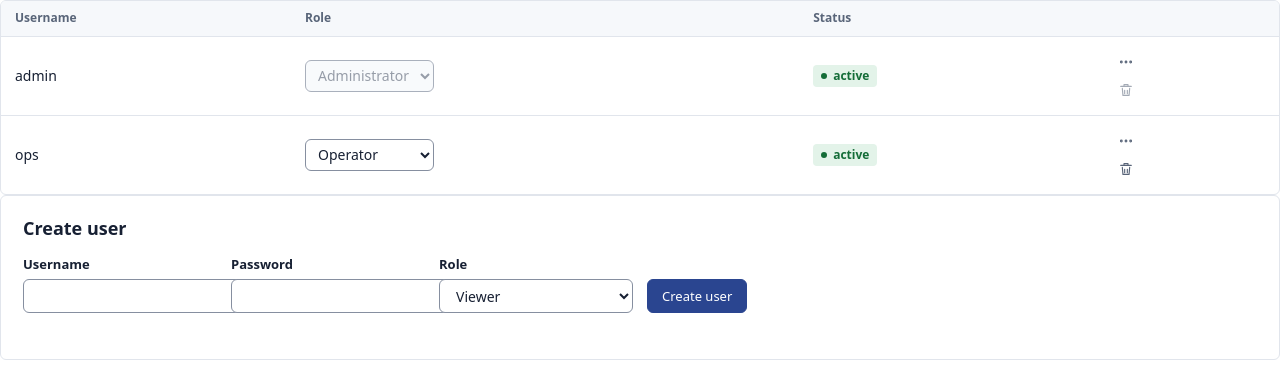
it: UsersTab › disables deactivate and role on own row
Expected: the dropdown named "Role for admin" is disabled, [305,60,434,92]
Click the button named "Actions for admin".
click(1126, 62)  # box [1112,48,1140,76]
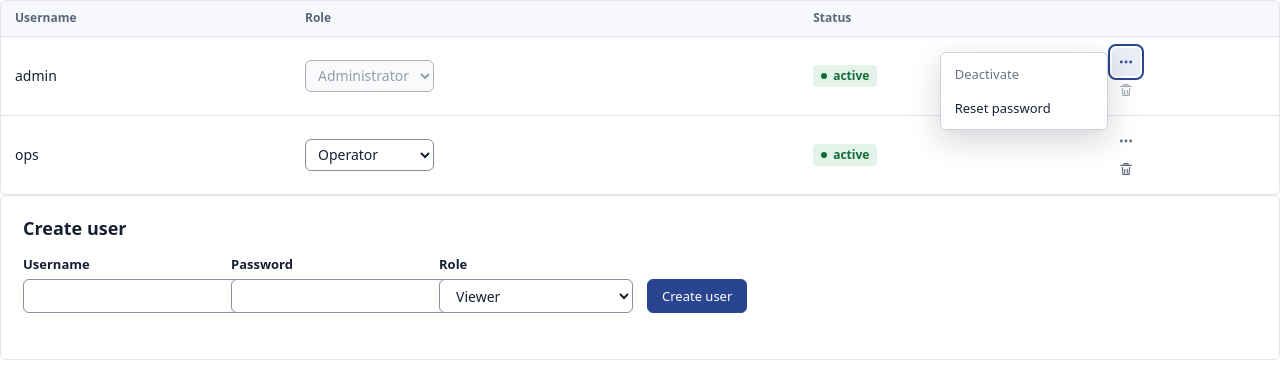
Result: the menu item "Deactivate" is disabled at [945,57,1103,91]
Click the button named "Actions for ops".
click(1126, 141)  # box [1112,127,1140,155]
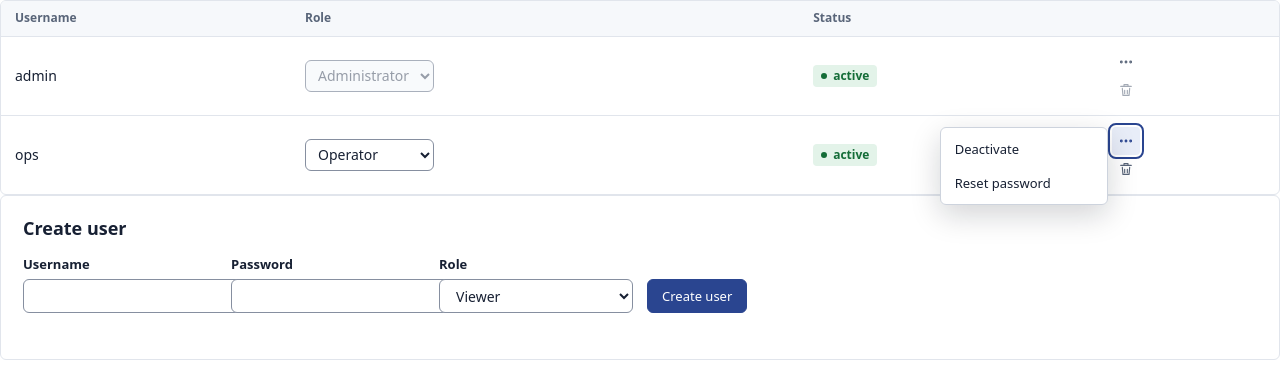
Result: the menu item "Deactivate" is enabled at [945,132,1103,166]
